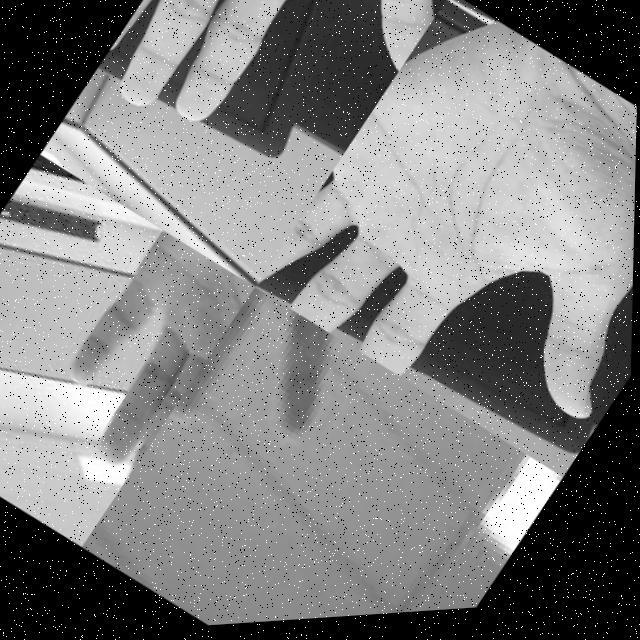no-gloves: (252, 0, 640, 495), (89, 0, 451, 226), (0, 211, 258, 508), (168, 282, 424, 532)
